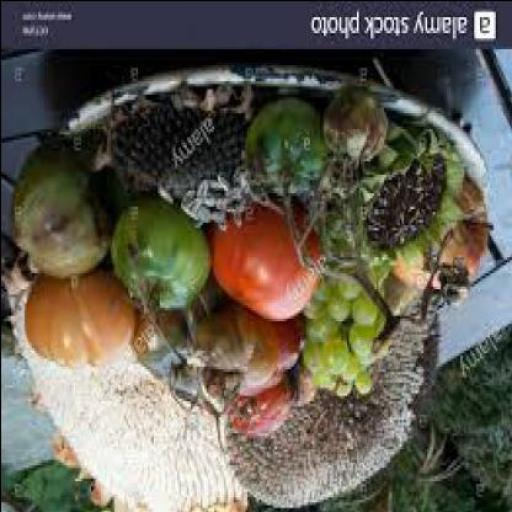biodegradable: (5, 261, 249, 511), (227, 318, 441, 510), (326, 120, 469, 280), (108, 102, 264, 232), (211, 202, 327, 328), (10, 147, 112, 283), (248, 99, 328, 269), (390, 178, 490, 304), (111, 200, 211, 314), (24, 272, 136, 370), (369, 160, 446, 251), (196, 314, 279, 392), (236, 312, 306, 401), (326, 90, 389, 186), (174, 371, 241, 443), (134, 315, 198, 389), (230, 381, 296, 437), (81, 128, 115, 182), (283, 366, 316, 414), (321, 339, 350, 376), (198, 288, 227, 320), (350, 328, 379, 358), (351, 302, 381, 331), (307, 317, 342, 341), (306, 344, 322, 378), (342, 360, 362, 387), (331, 298, 350, 326), (338, 280, 361, 302), (314, 370, 336, 392), (356, 382, 375, 398), (368, 275, 384, 294), (336, 387, 353, 397)
